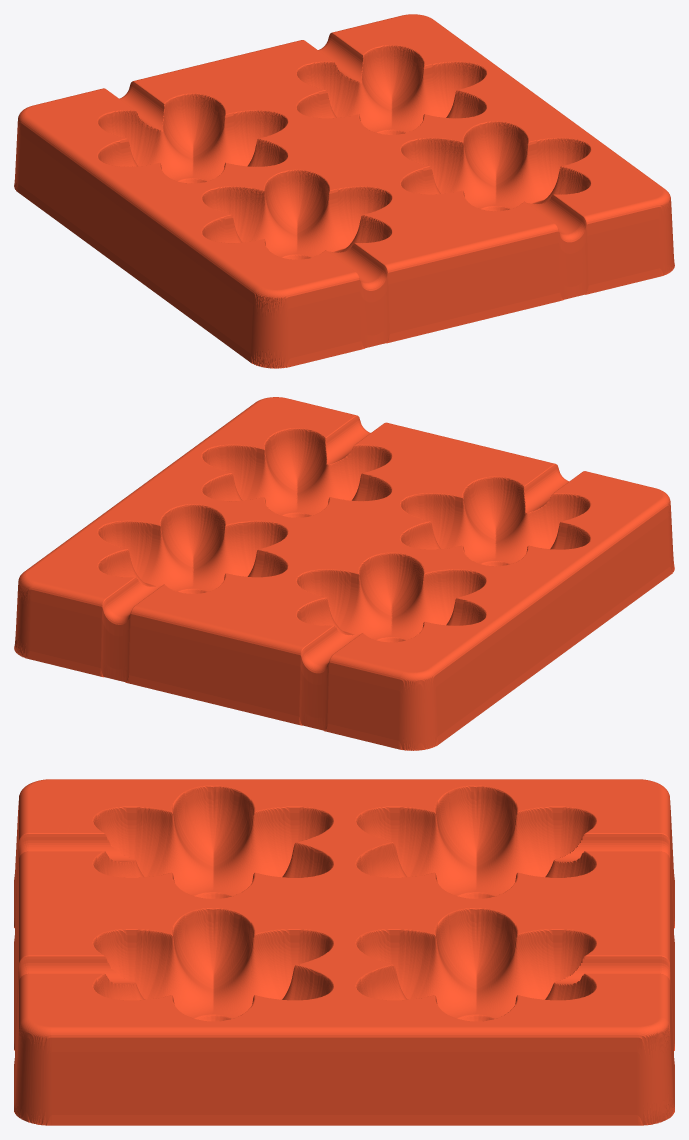
Rendered from mold.glb.
3 views of the same model, one above another, from view 1: azimuth 30°, elevation 25°; view 2: azimuth 150°, elevation 25°; view 3: azimuth 270°, elevation 25° (orthographic). The views are drawn at different scales.
Visible parts, largest first — view 1: geometry_0; view 2: geometry_0; view 3: geometry_0.
Boxes of the visible parts, x1,y1,x2,y2 form: geometry_0: [14, 14, 674, 368]; geometry_0: [14, 397, 674, 750]; geometry_0: [14, 779, 674, 1125].
Size of the model in its own units: 0.1468 by 0.0245 by 0.1582.
